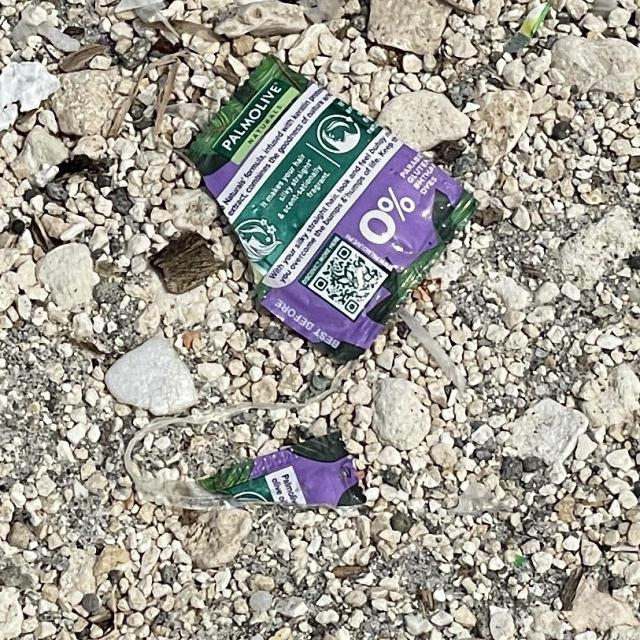plastic_waste: (189, 59, 486, 355), (130, 430, 365, 508)
